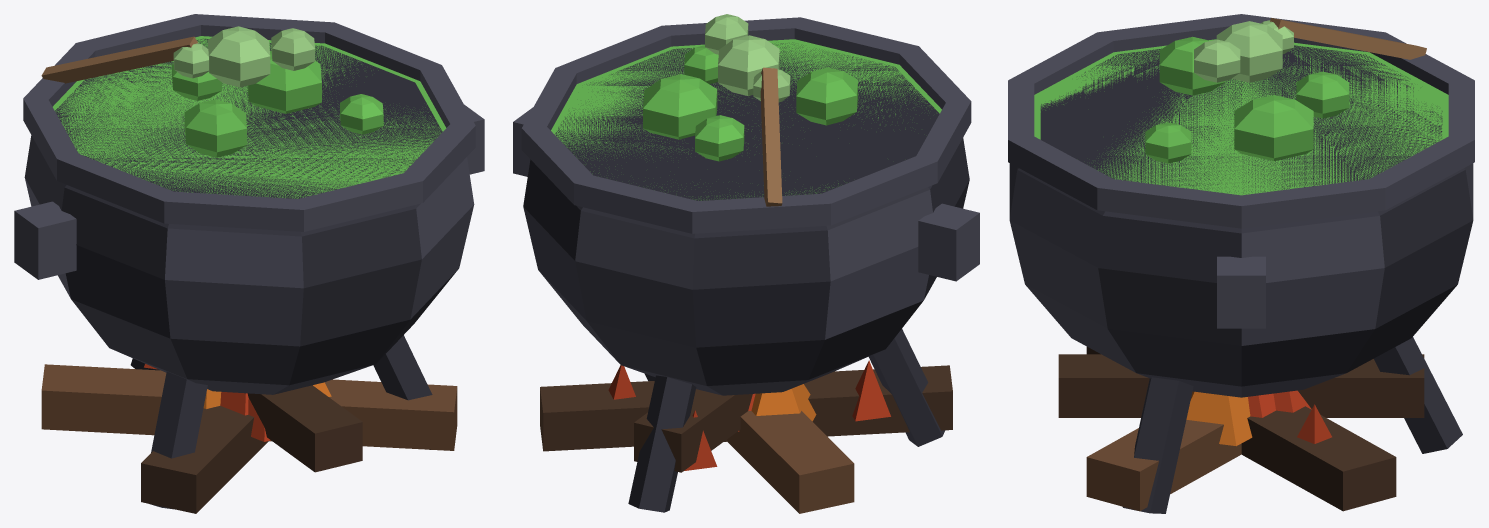
File: Decor_WizardTower_Cauldron.fbx
3 views of the same model, side by side, from view 1: azimuth 30°, elevation 25°; view 2: azimuth 150°, elevation 25°; view 3: azimuth 270°, elevation 25° (orthographic). The views are drawn at different scales.
Parts seen in each view (by area): view 1: Cauldron_Body; view 2: Cauldron_Body; view 3: Cauldron_Body.
Part boxes in pixels (x1,y1,x2,y2): Cauldron_Body: (14,14,484,513); Cauldron_Body: (513,14,979,513); Cauldron_Body: (1008,14,1474,513).
Bounding box in the file's own units: 14 × 12.4 × 12.4.
